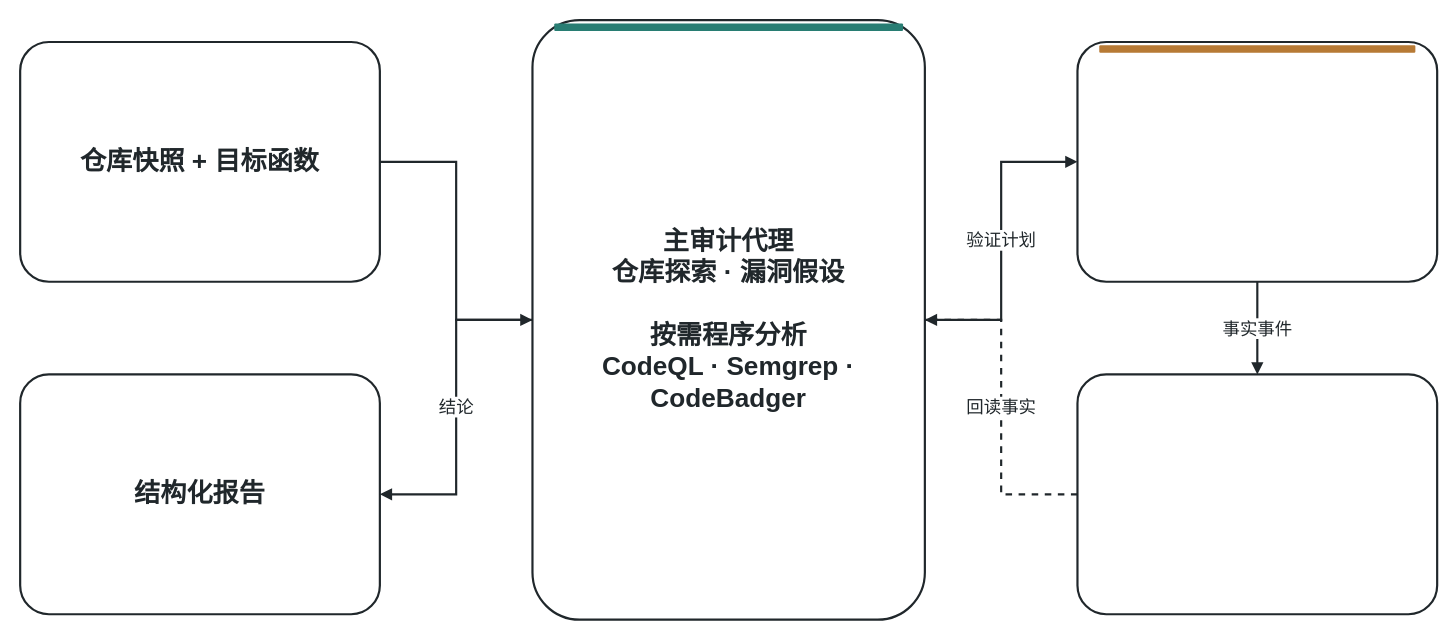
Image size: 1456x639. Some labels were removed from this diagram. Here are the shapes that lost their labels. From the top down, the centre of each, then its label:
(x=1257, y=161): 执行代理 任务容器
(x=1257, y=494): 事实黑板
